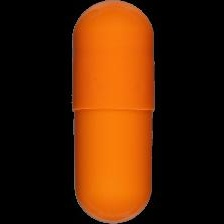0054-0107: (0, 0, 224, 224)
